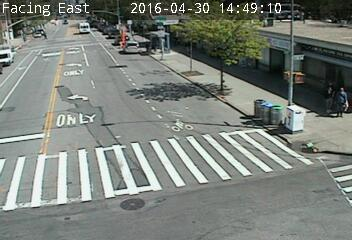neg: (29, 121, 76, 184), (118, 171, 149, 211), (186, 56, 212, 90), (307, 146, 331, 178), (258, 190, 278, 217), (171, 63, 189, 88), (15, 63, 31, 84), (177, 110, 192, 130), (90, 20, 102, 37), (76, 10, 86, 24), (61, 22, 71, 34), (125, 23, 131, 31)
pos: (318, 78, 345, 115), (330, 86, 351, 118), (40, 29, 49, 41)
